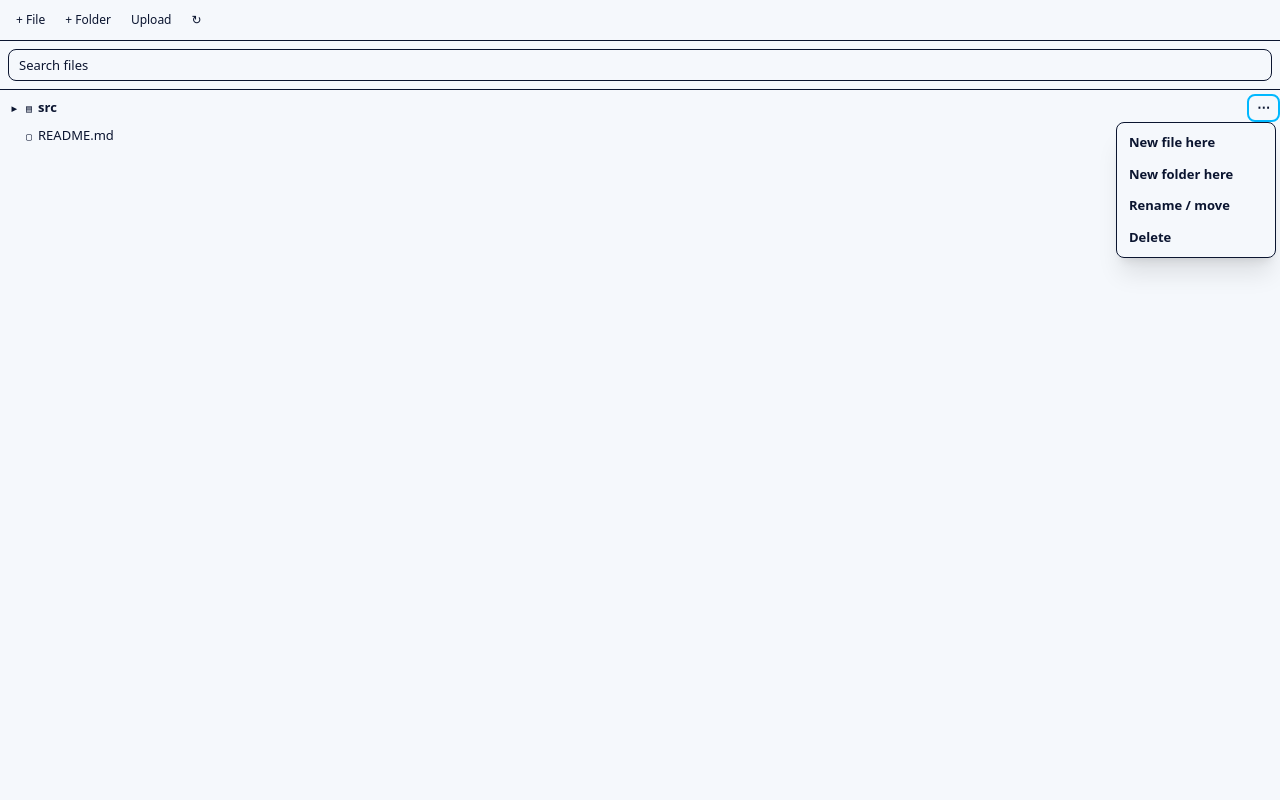
FileTree › asks before deleting and deletes folders recursively
The width and height of the screenshot is (1280, 800).
Earlier steps of the test are not shown.
Later steps or results of the test are not shown.
Click the menu item "Delete" at point(1196, 238), box [1117,222,1275,253]
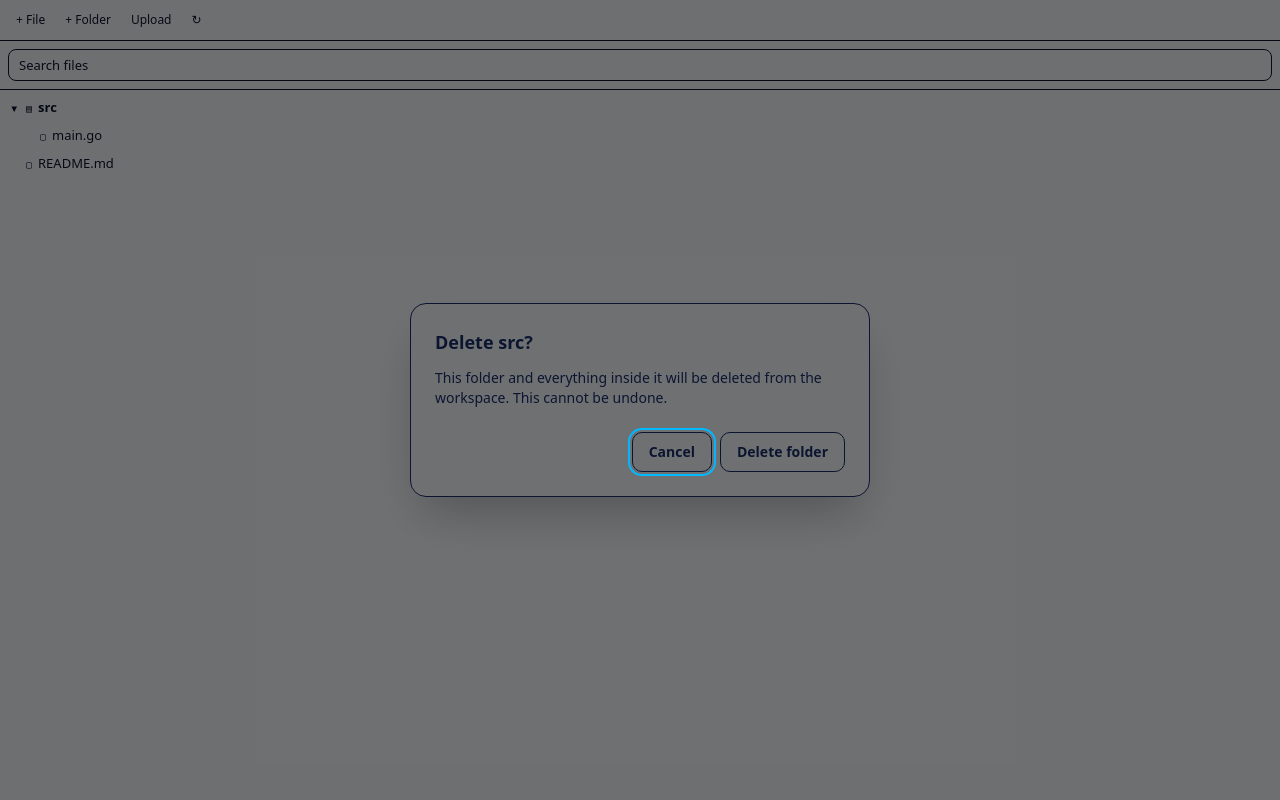
Now the text "everything inside it" is shown, box [435,368,822,407]
